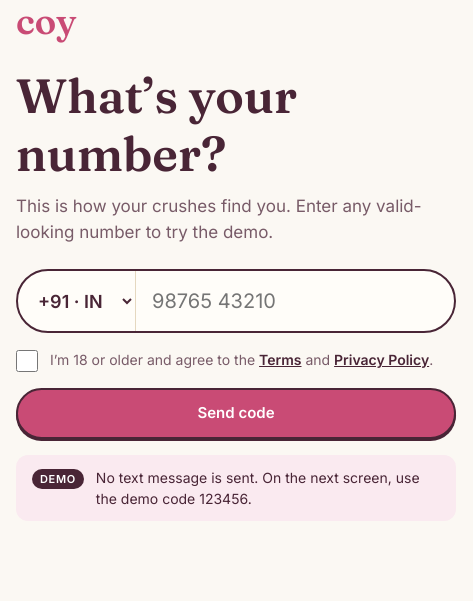
Test case: LoginPage › validates the phone number and terms before sending the code
What coordinates should you click on to do the following:
click the button "Send code"
I would click on:
 (236, 413)
Its box is [16, 388, 456, 439].
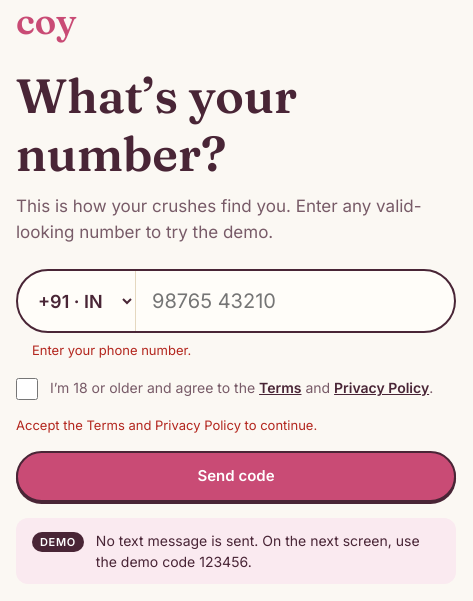
Now the text "Enter your phone number." is shown, box [32, 342, 191, 358]
Now the text "Accept the Terms and Privacy Policy to continue." is shown, box [16, 417, 317, 433]
